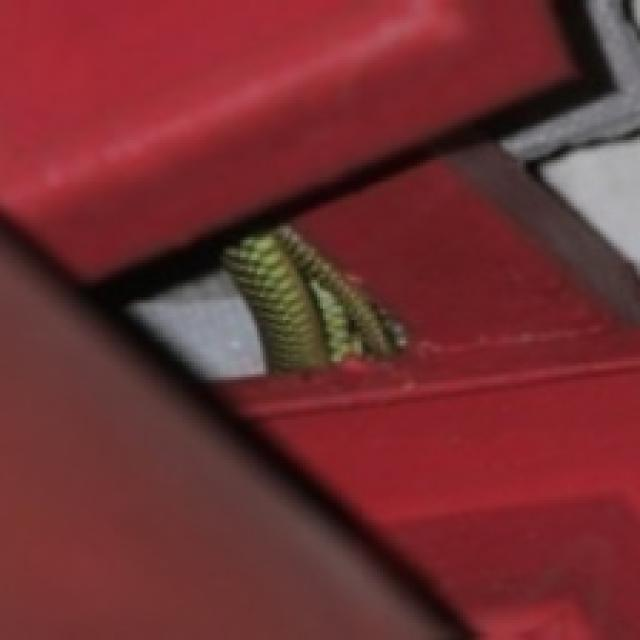paradise tree snake: (223, 226, 406, 369)
